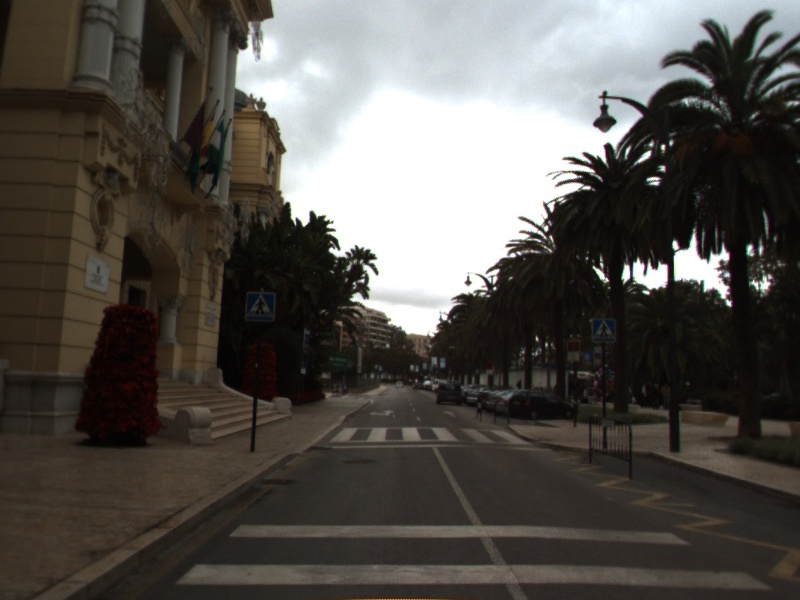STRAIGHT: (440, 408, 459, 420)
STRAIGHT_LEFT: (366, 408, 396, 418)
